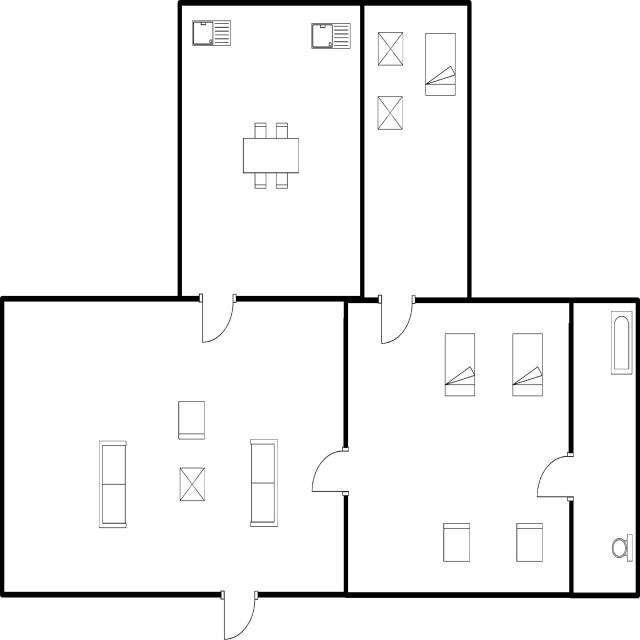bed: (509, 329, 546, 401), (422, 27, 458, 99), (442, 327, 478, 399)
coffee_table: (372, 27, 407, 70), (374, 91, 406, 134), (177, 463, 208, 506)
dining_table: (238, 118, 302, 193)
large_sink: (608, 529, 634, 564)
large_sofa: (244, 434, 281, 532), (95, 436, 128, 534)
sink: (189, 16, 234, 51), (309, 18, 353, 53)
small_sofa: (440, 518, 474, 568), (174, 397, 209, 444), (512, 518, 546, 566)
tub: (607, 306, 635, 381)
